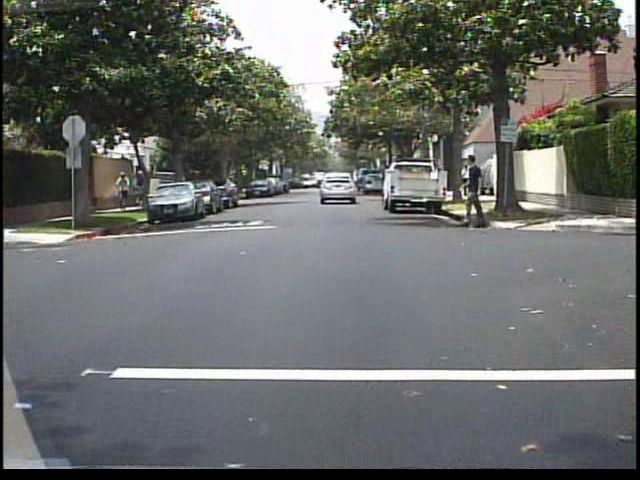person: (459, 154, 499, 234), (113, 168, 135, 205), (172, 169, 190, 204), (461, 162, 472, 197)
